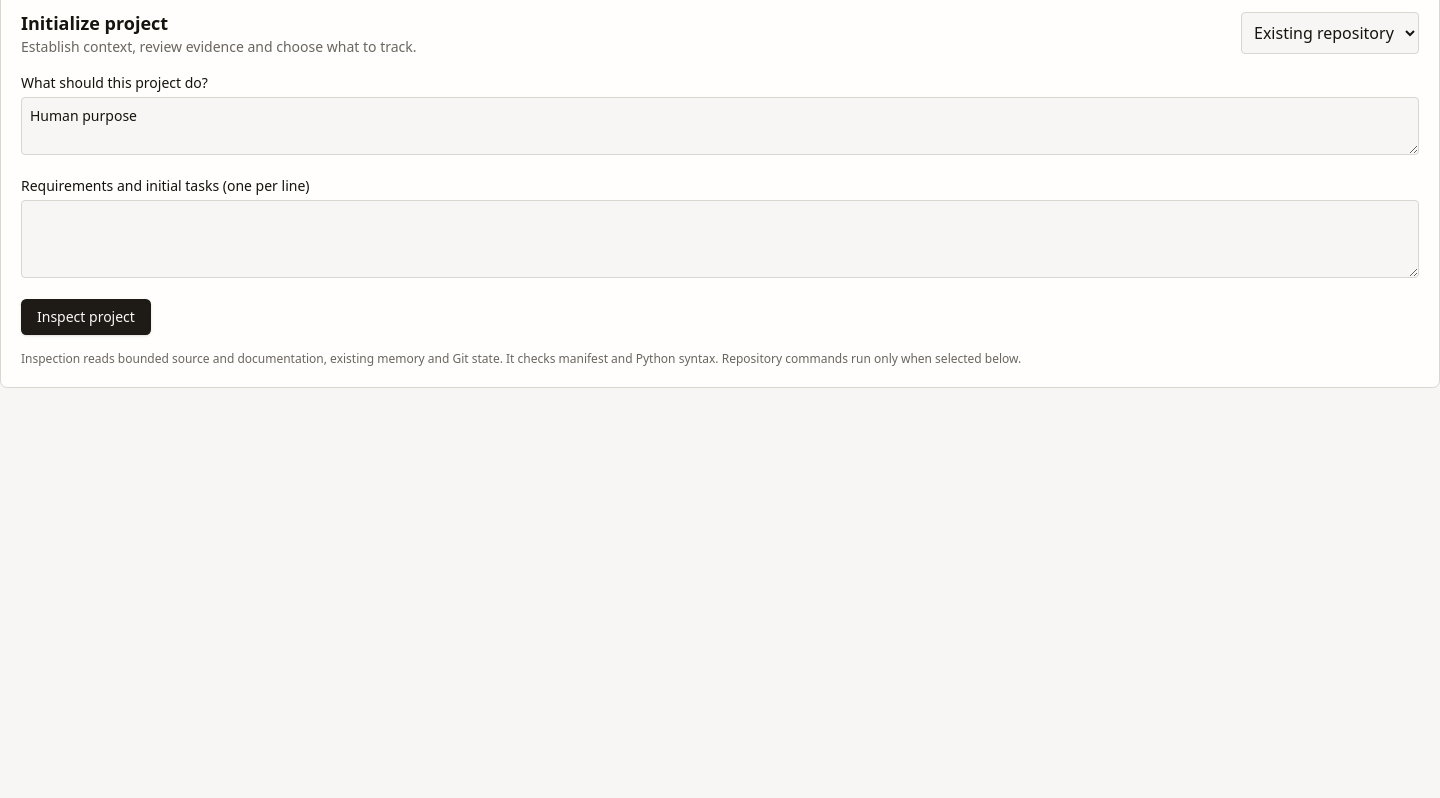
Scenario: project assessment review › retains a stale draft and never silently refreshes its revision
What coordinates should you click on to do the following:
click the button "Inspect project"
I would click on:
 (86, 317)
Its box is [21,299,151,335].
(page scrolled)
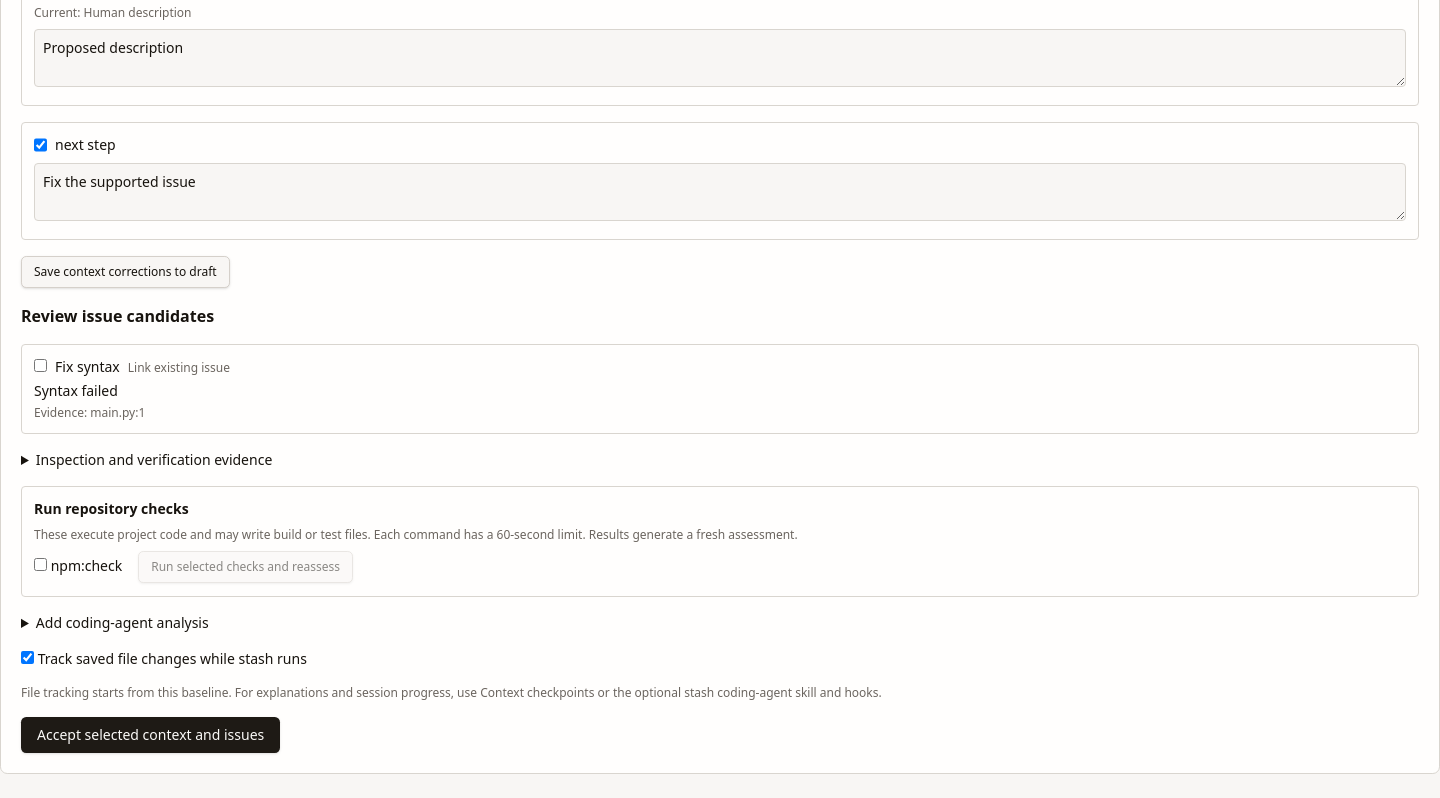
What coordinates should you click on to do the following:
click the button "Accept selected context and issues"
I would click on:
 (151, 735)
Its box is [21,717,280,753].
(page scrolled)
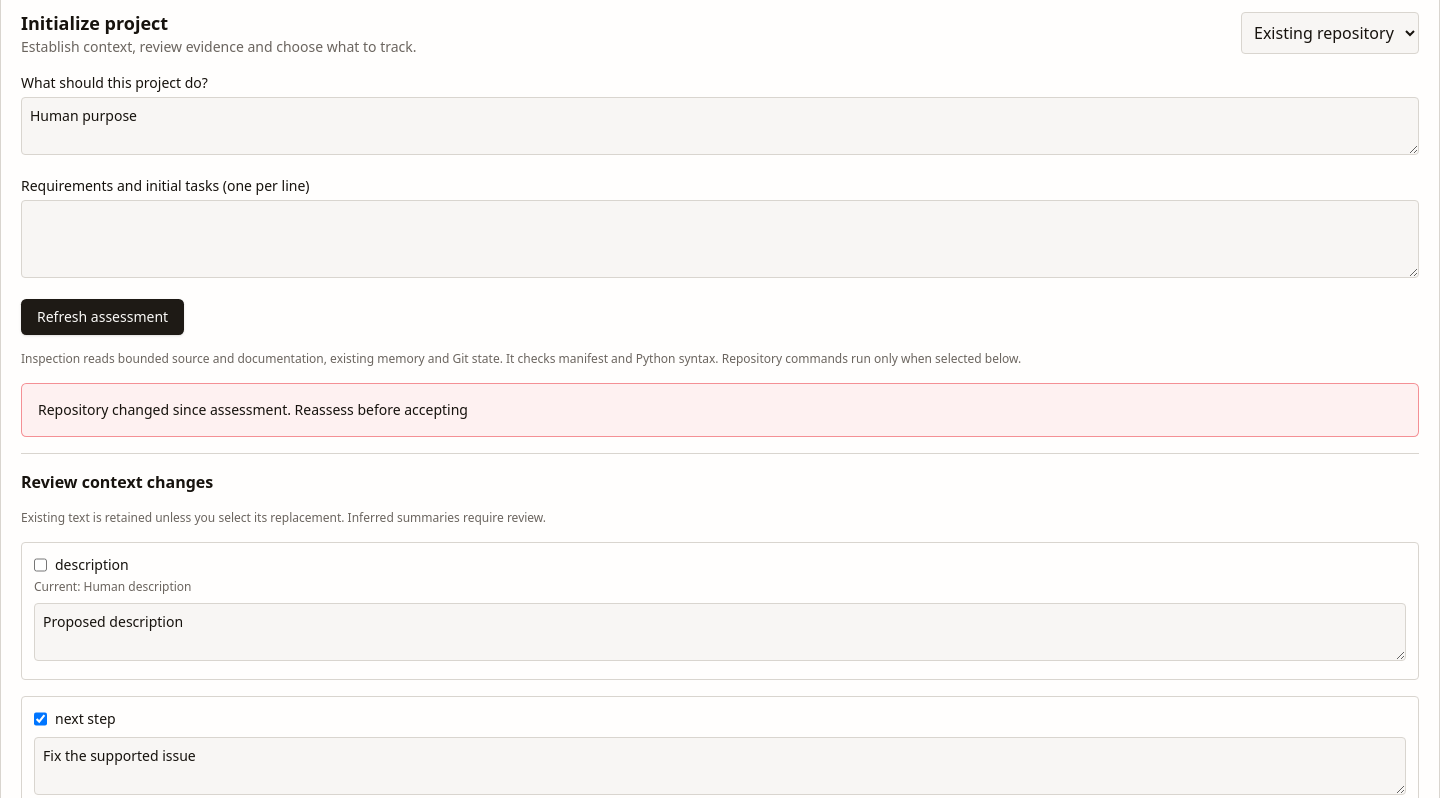
Result: the text box named "Proposed description" holds "Proposed description" at [34,603,1406,661]
Result: the button "Refresh assessment" is shown at [21,299,184,335]
Result: the text "Repository changed since assessment" is shown at [38,400,468,419]
